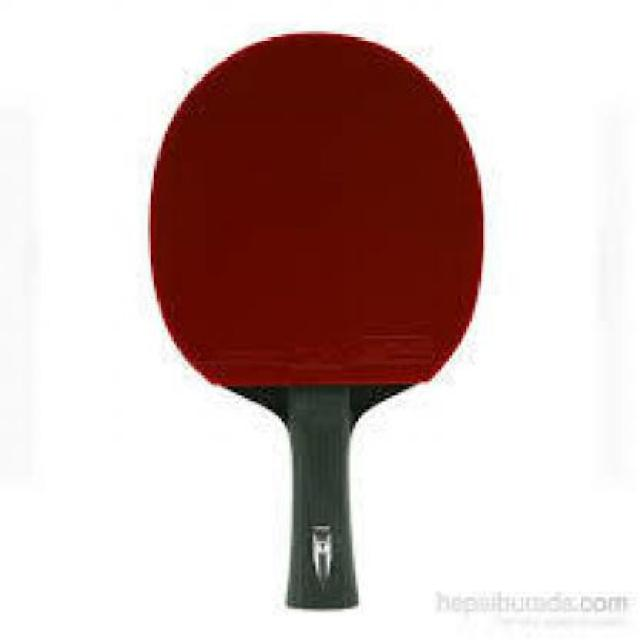table_tennis_racket: (144, 26, 490, 420)
